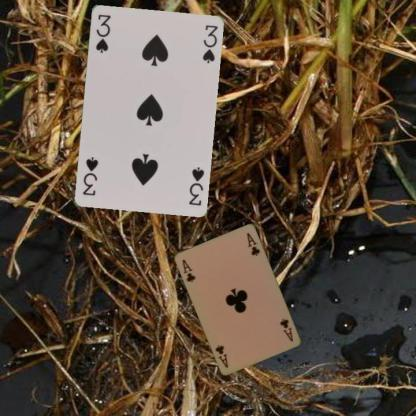3s: (93, 11, 112, 54), (186, 164, 205, 207)
Ac: (277, 316, 295, 343), (180, 256, 197, 284)
